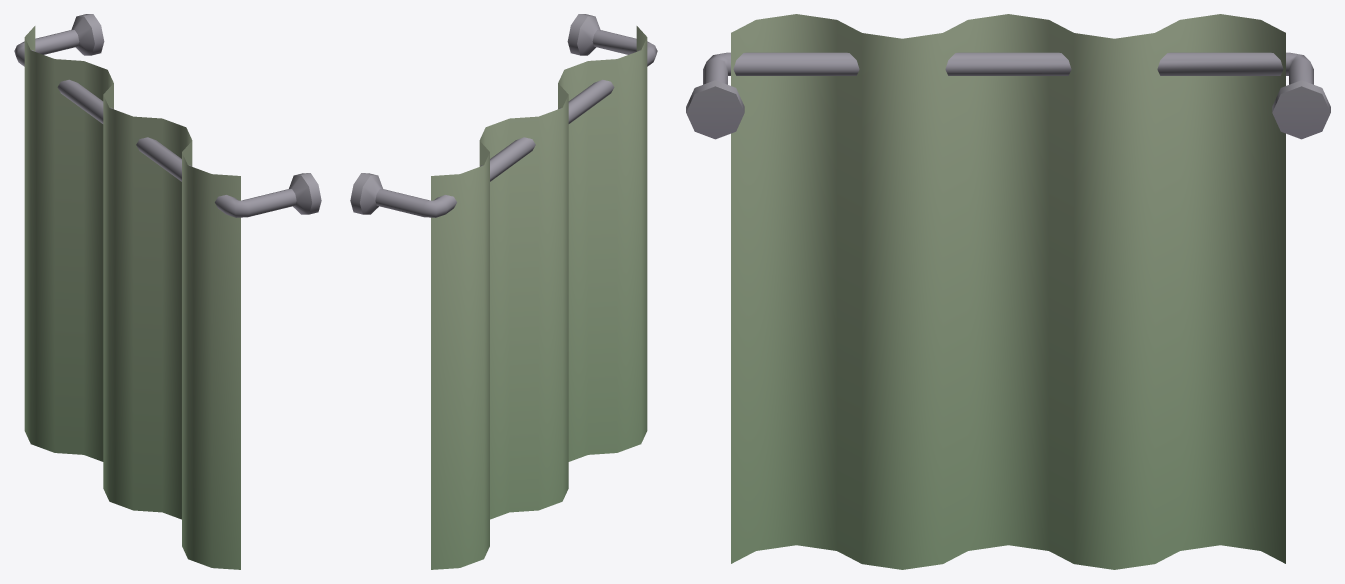
File: curtain-wide-short-closed (%wall).glb
The picture shows the model from 3 angles, left to right: view 1: azimuth 30°, elevation 25°; view 2: azimuth 150°, elevation 25°; view 3: azimuth 270°, elevation 25°; orthographic projection. The views are drawn at different scales.
Parts seen in each view (by area): view 1: curtain-wide-short-closed (%wall); view 2: curtain-wide-short-closed (%wall); view 3: curtain-wide-short-closed (%wall).
Part boxes in pixels (x1,y1,x2,y2): curtain-wide-short-closed (%wall): (14, 14, 321, 569); curtain-wide-short-closed (%wall): (350, 14, 657, 569); curtain-wide-short-closed (%wall): (686, 14, 1330, 569).
Size of the model in its own units: 0.2463 by 1 by 1.1.
